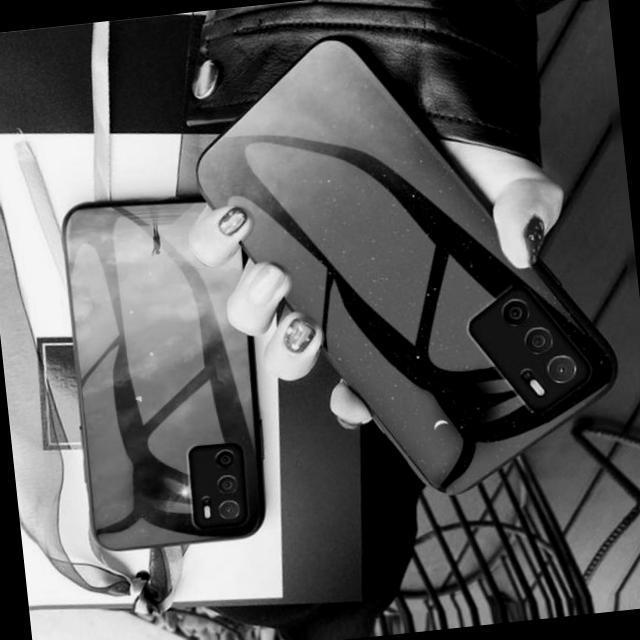lens: (457, 284, 603, 414), (191, 444, 249, 534)
phone: (183, 17, 625, 521), (57, 188, 268, 562)
